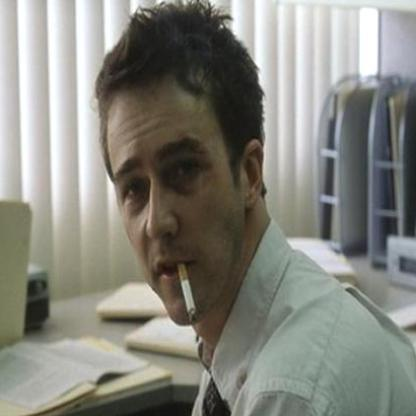cigarette: (178, 262, 198, 325)
person: (90, 8, 300, 415)
